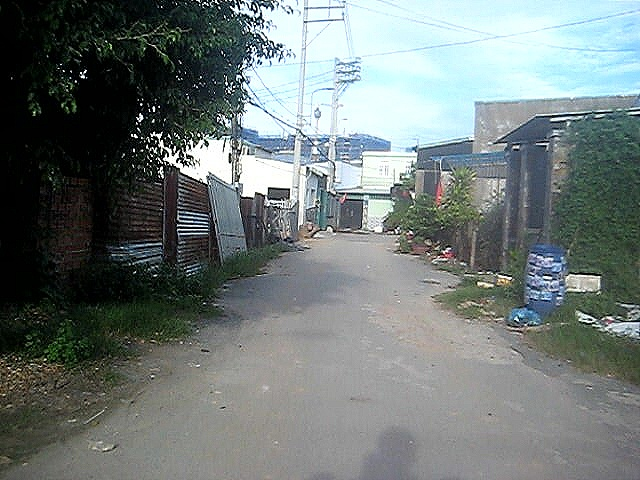hole: (419, 278, 441, 283)
